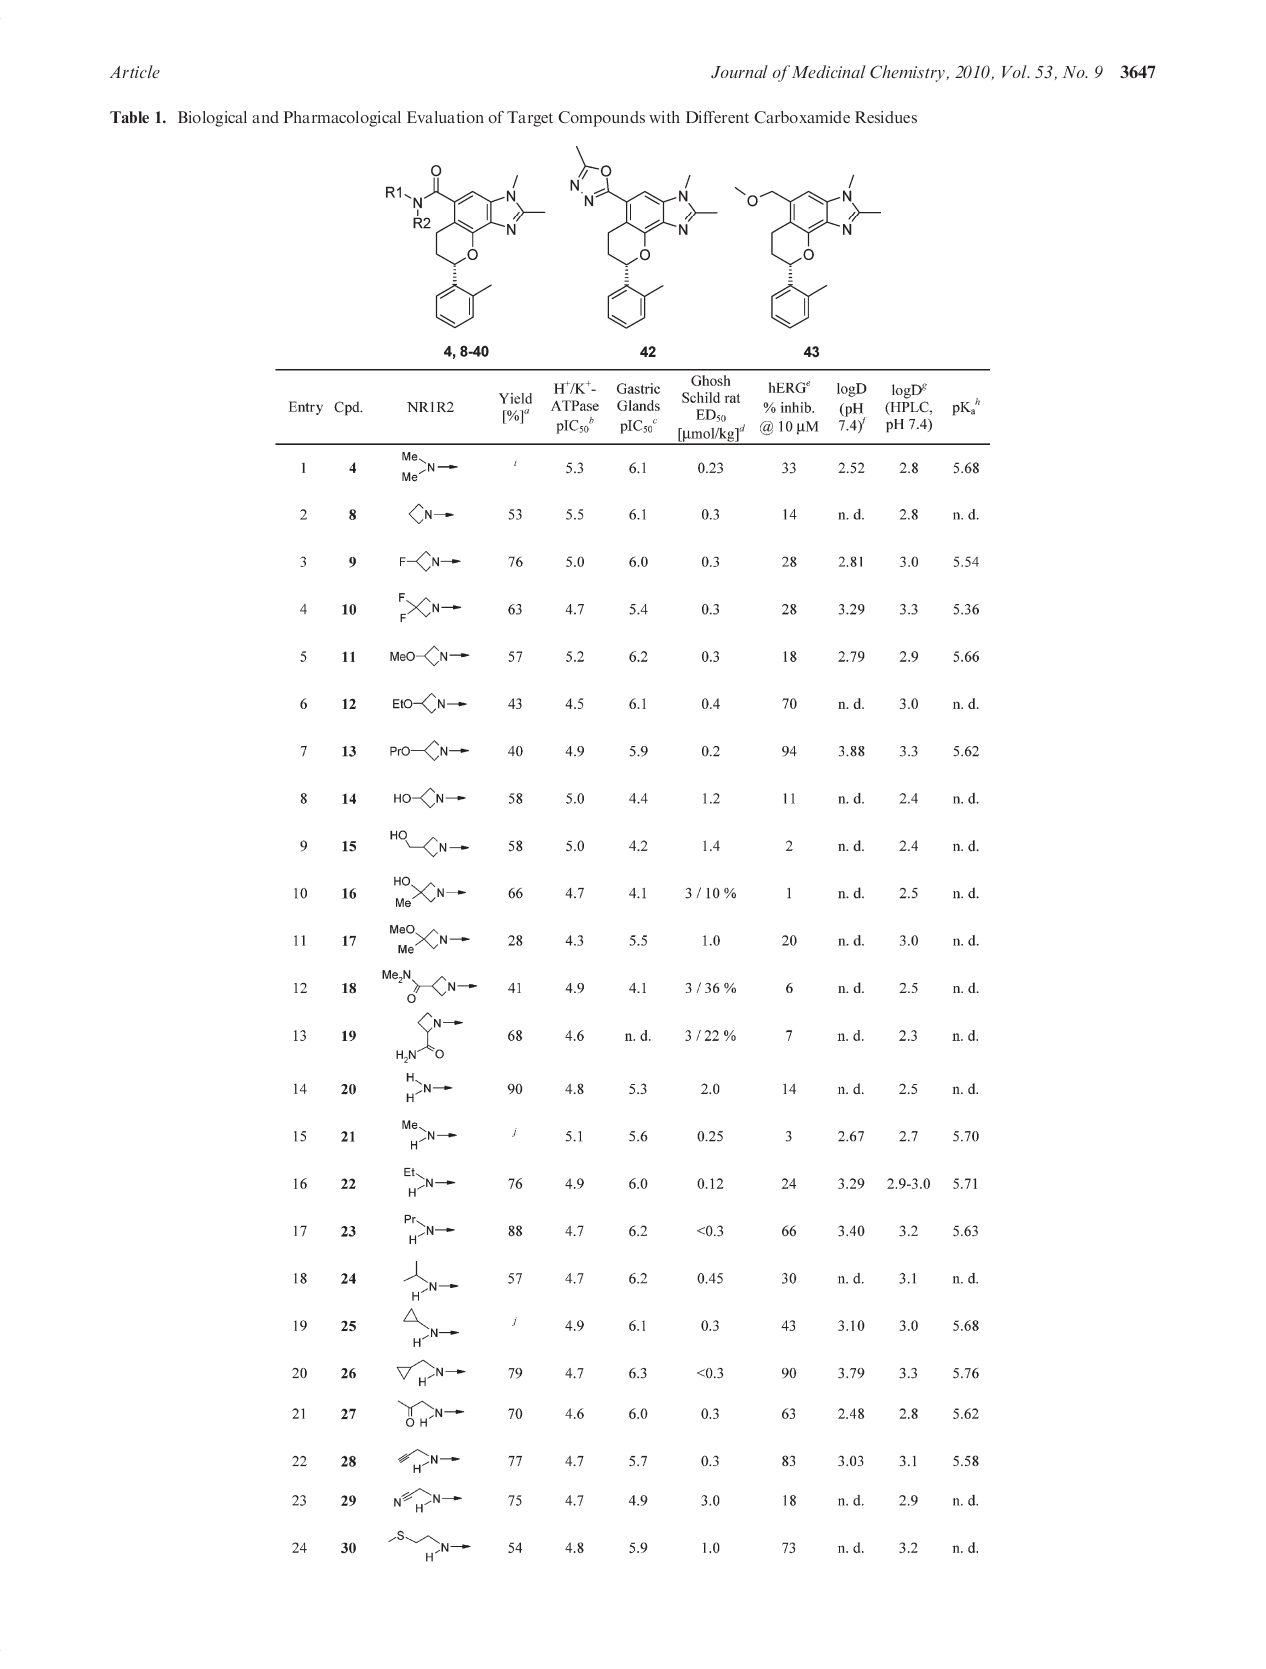exist_molecular: (382, 160, 544, 332), (572, 144, 719, 332), (735, 165, 883, 332), (394, 1011, 444, 1067), (378, 965, 456, 1001), (382, 1527, 451, 1563), (386, 637, 449, 672), (386, 919, 451, 952), (394, 1306, 442, 1350), (386, 825, 449, 856), (390, 872, 449, 906), (391, 447, 438, 487), (392, 590, 442, 628), (398, 1259, 439, 1302), (391, 1356, 445, 1388), (392, 781, 445, 813), (395, 1396, 445, 1430), (390, 689, 445, 717), (386, 739, 451, 763), (398, 1114, 438, 1153), (398, 1164, 438, 1202), (394, 547, 443, 577), (398, 1209, 436, 1247), (392, 1485, 443, 1513), (398, 1446, 439, 1476), (402, 1071, 434, 1102), (402, 500, 435, 523)
